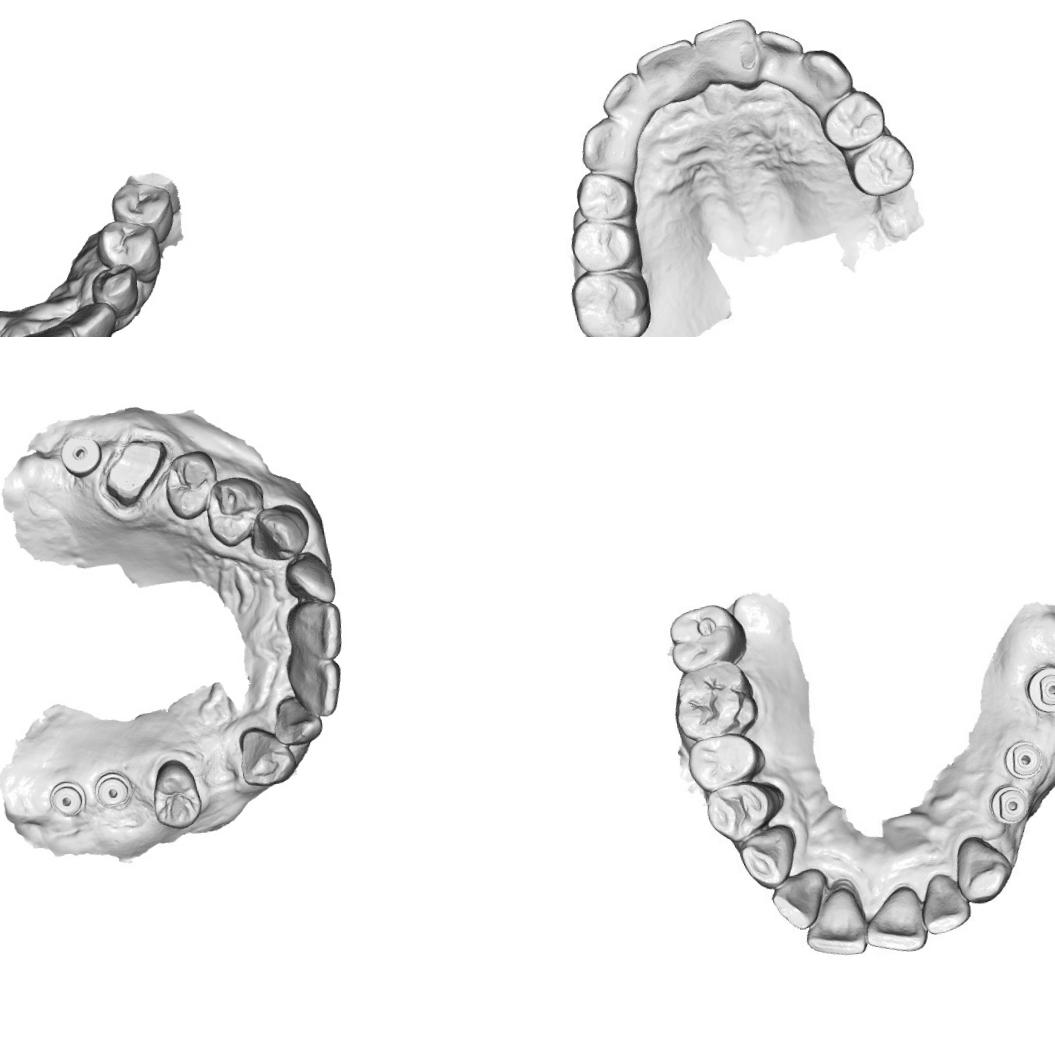canine: (246, 499, 318, 568), (952, 833, 1016, 906), (234, 720, 298, 790), (737, 822, 798, 890), (796, 44, 853, 111), (577, 118, 642, 172), (87, 263, 143, 323)
crown: (98, 432, 176, 513)
implant: (53, 430, 109, 482), (86, 766, 140, 815), (42, 776, 93, 823), (990, 782, 1036, 834), (999, 736, 1048, 778), (1021, 662, 1055, 713)
incisor: (689, 15, 764, 88), (800, 886, 870, 960), (858, 887, 932, 954), (634, 36, 699, 107), (284, 652, 346, 724), (285, 598, 351, 664), (769, 868, 830, 932), (917, 873, 975, 936), (753, 23, 807, 89), (284, 551, 344, 606), (270, 690, 326, 747), (598, 72, 649, 124), (59, 299, 122, 337), (17, 320, 80, 337)
molar: (668, 656, 764, 746), (662, 600, 750, 674), (572, 269, 657, 337)
premolar: (104, 177, 180, 250), (705, 775, 781, 847), (684, 729, 766, 794), (91, 214, 165, 284), (200, 472, 268, 548), (158, 446, 222, 524), (820, 86, 890, 156), (146, 754, 206, 834), (570, 216, 636, 271), (854, 139, 915, 196), (574, 169, 630, 221)
